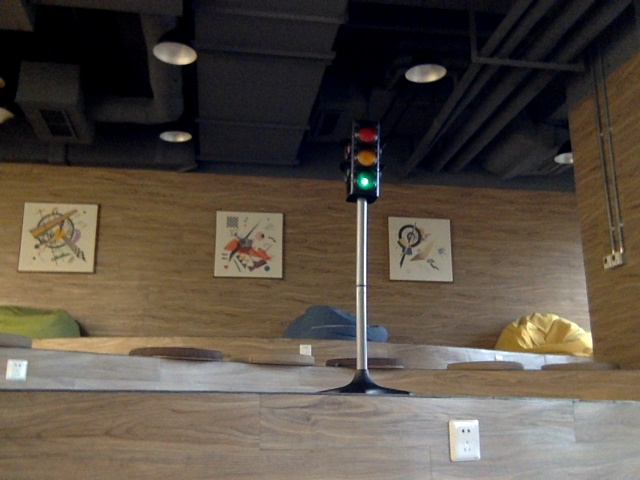green: (350, 128, 378, 188)
